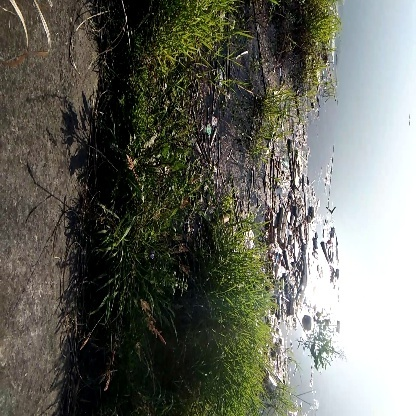grass: (195, 259, 271, 412)
